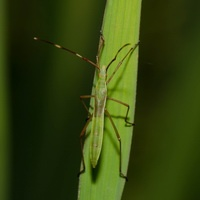insect: (33, 34, 138, 180)
